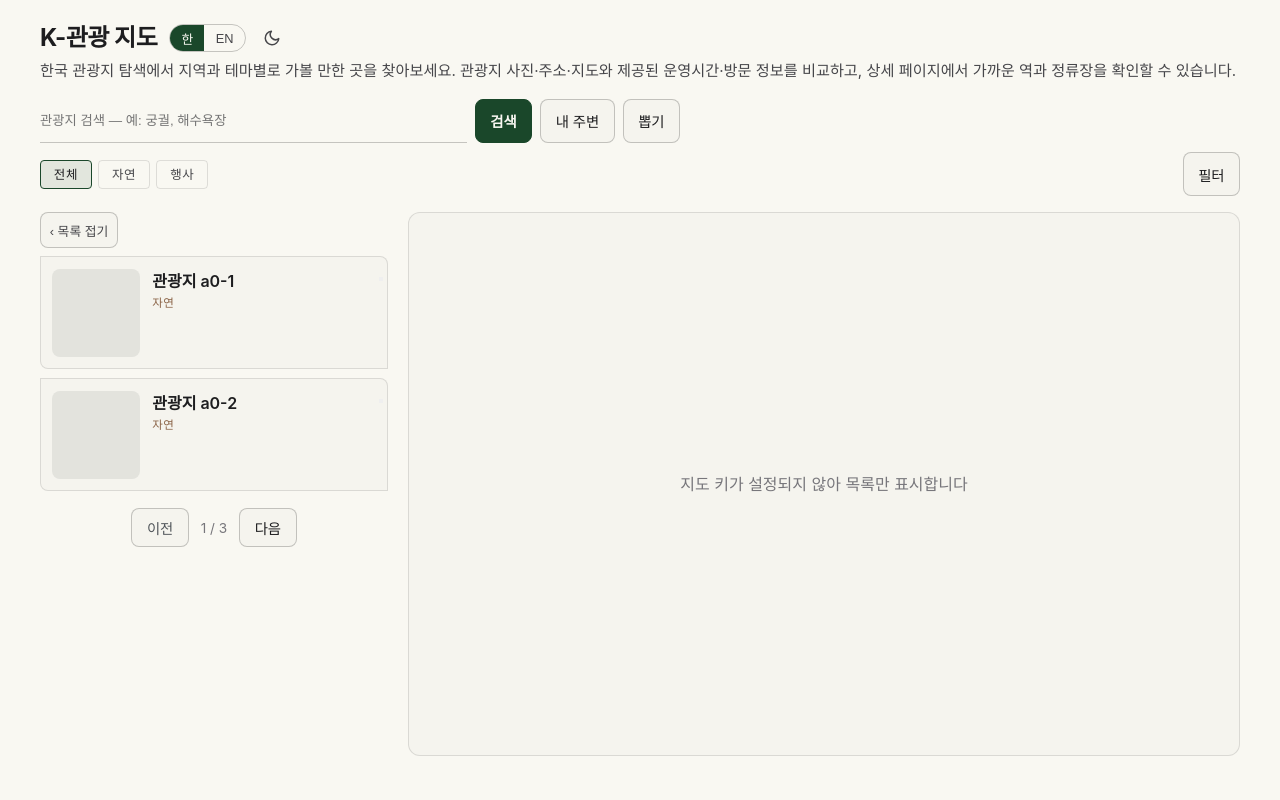
Test: PlacePage 속성 칩 › 열한 칩(방문 속성 7 · 무장애 3 · 웰니스 1)을 분류 칩과 다른 묶음에 그리고, 첫 쪽 응답의 건수를 붙인다
This screenshot has width=1280, height=800.
Expected: the heading "관광지 a0-1" is shown, [152, 269, 234, 293]
What coordinates should you click on to do the following:
click the button "필터"
I would click on:
 (1211, 174)
Its box is [1183, 152, 1240, 196].
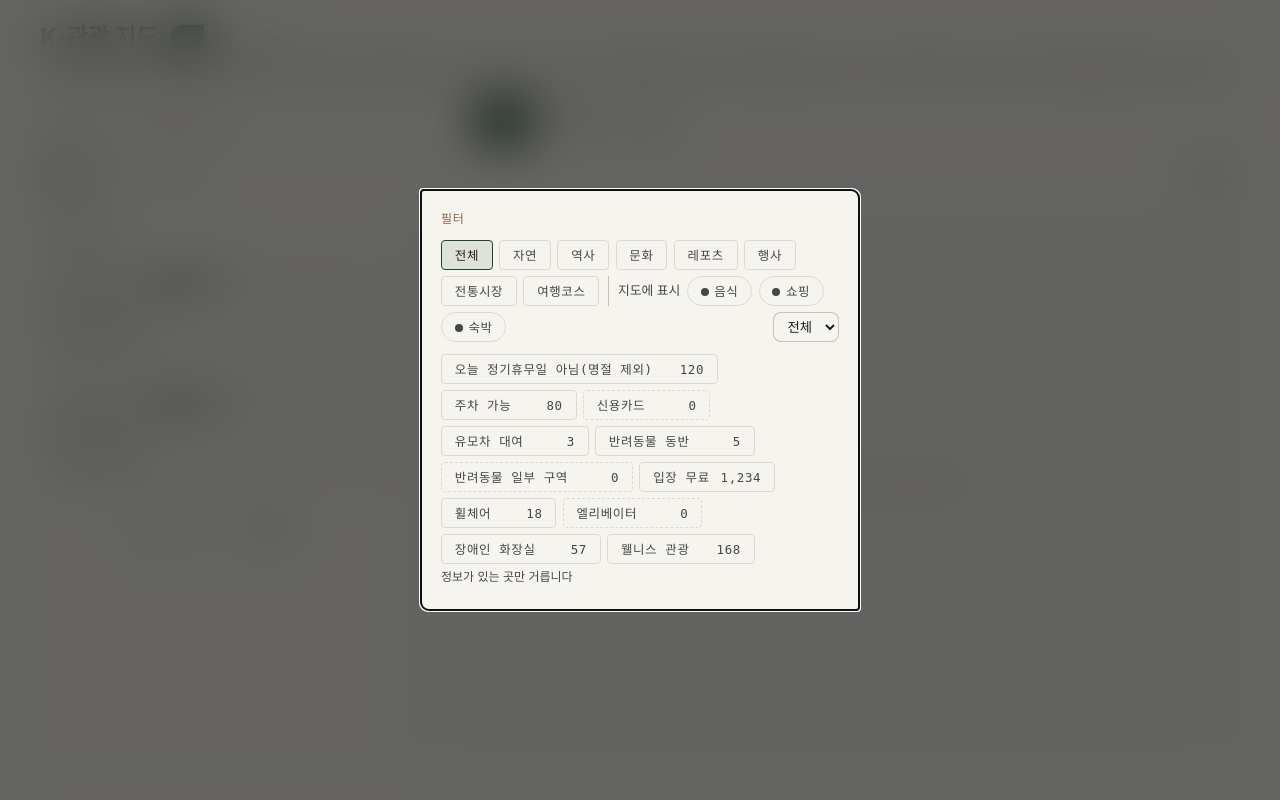
Expected: the text "정보가 있는 곳만 거릅니다" is shown, [441, 569, 573, 584]
Expected: the button "주차 가능 80" is shown, [441, 390, 576, 420]
Expected: the button "입장 무료 1,234" is shown, [639, 462, 775, 492]
